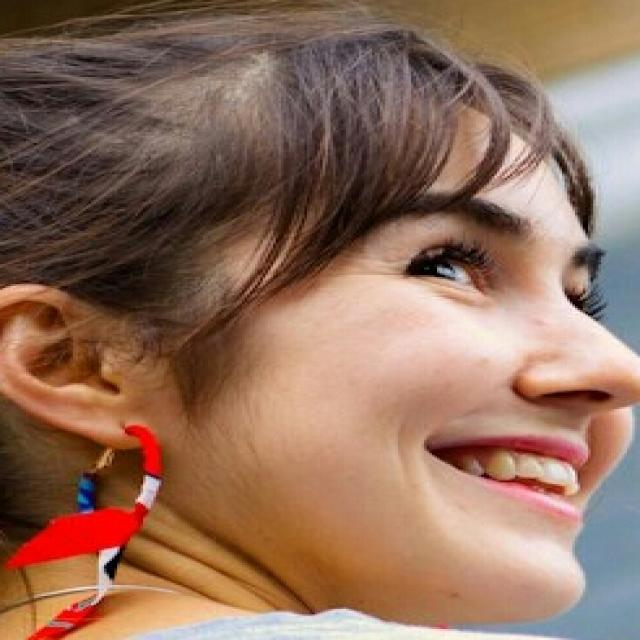front: (351, 189, 640, 601)
